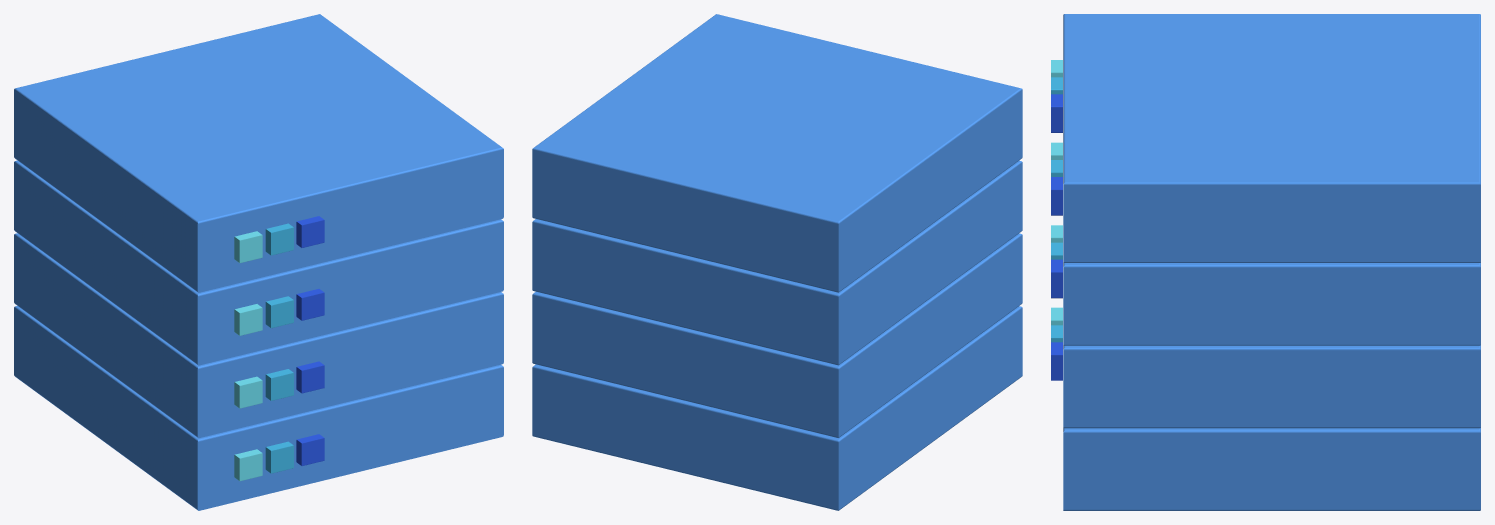
File: COMPUTE_SERVER.glb
3 renders of one model, left to right at view 1: azimuth 30°, elevation 25°; view 2: azimuth 150°, elevation 25°; view 3: azimuth 270°, elevation 25°, orthographic. The views are drawn at different scales.
Parts seen in each view (by area): view 1: box, firstPoint, threePoint, twoPoint; view 2: box; view 3: box, threePoint, firstPoint, twoPoint.
Boxes of the visible parts, x1,y1,x2,y2 form: box: [14, 14, 503, 510]; firstPoint: [234, 231, 262, 481]; threePoint: [296, 216, 324, 465]; twoPoint: [265, 223, 293, 473]; box: [532, 14, 1022, 510]; box: [1063, 14, 1480, 510]; threePoint: [1051, 94, 1062, 380]; firstPoint: [1051, 60, 1062, 325]; twoPoint: [1051, 77, 1062, 342].
Bounding box in the file's own units: 1.05 × 0.9434 × 1.12.
